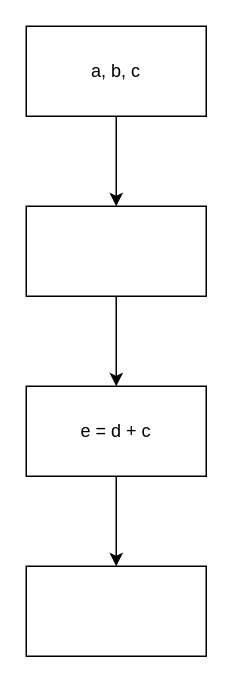
This 233x683 diagram has some shape labels left out. The shapes that lost their labels are listed below. From the top down, each one's centre as x and y in pixels, then its label:
At (x=115, y=250): "d = a + b".
At (x=115, y=610): "return e / 3".
